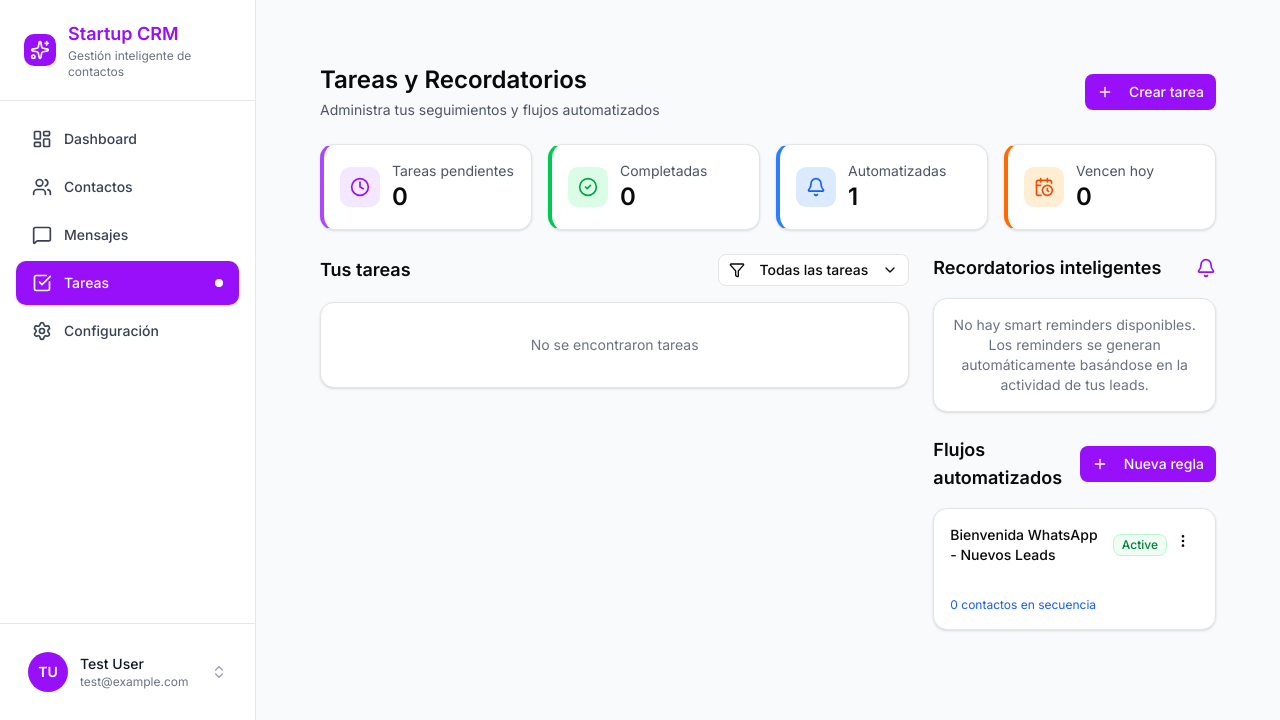
it: Integración WhatsApp + Flujos Automatizados › Flujo completo: Lead → Automatización → Mensaje WhatsApp › debe enviar mensaje automático cuando se crea un lead asignado a un flujo
The image size is (1280, 720).
Click the button with test id "workflow-menu-1" at (1183, 541), box [1167,525,1199,557]
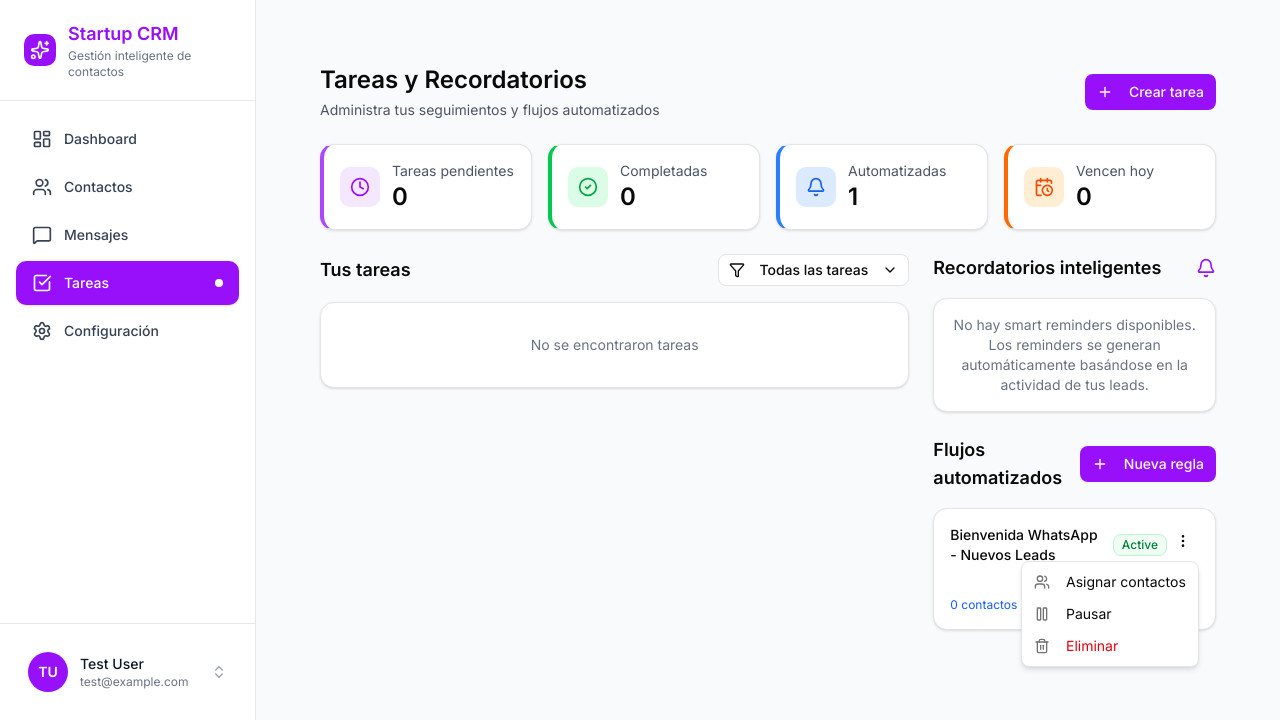
Click the menu item with test id "workflow-assign-contacts-1" at (1110, 582), box [1034,573,1186,590]
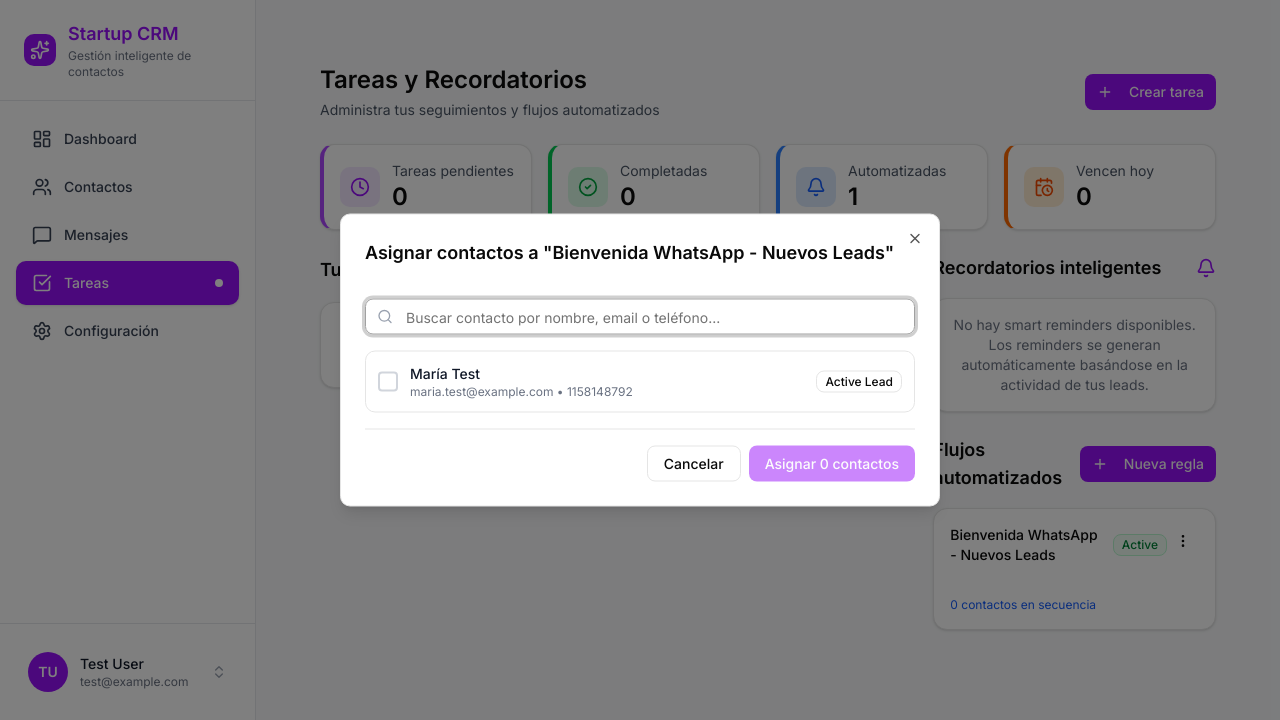
Expected: the text "María Test" is shown
Click the text "María Test" at (445, 374), box [410,365,480,382]
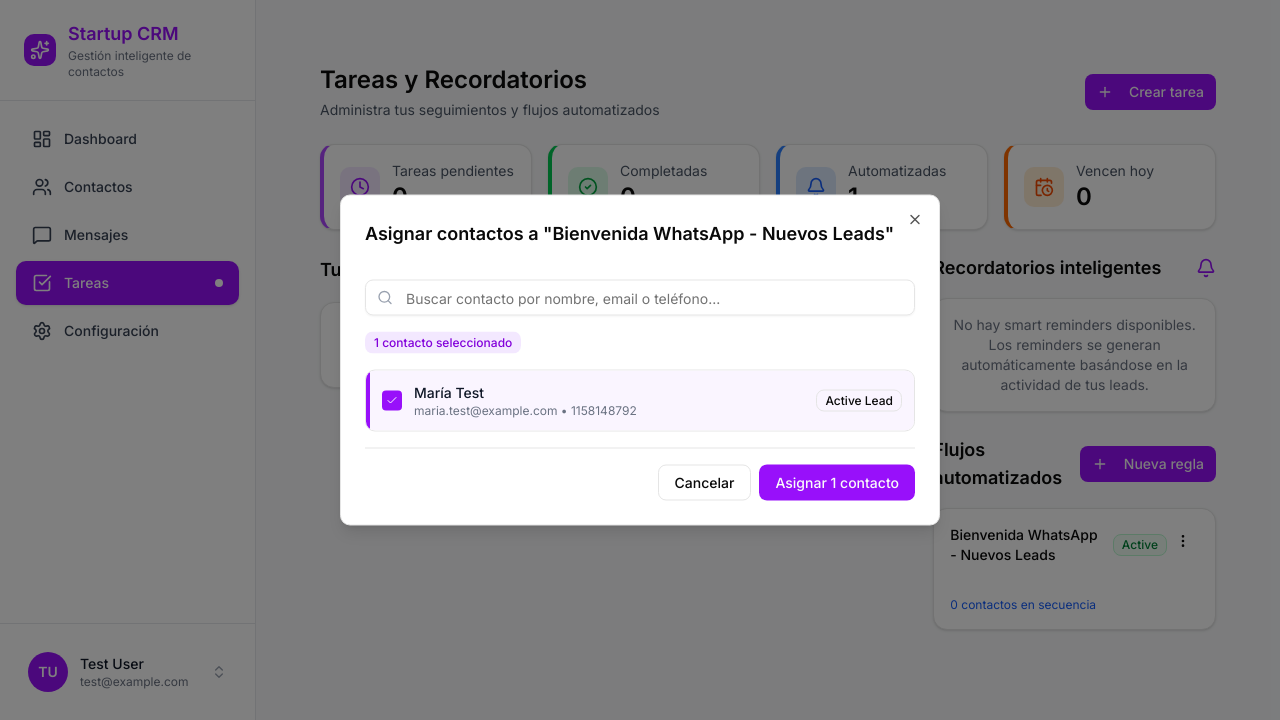
Click the button "Asignar 1 contacto" at (837, 483), box [759,465,915,501]
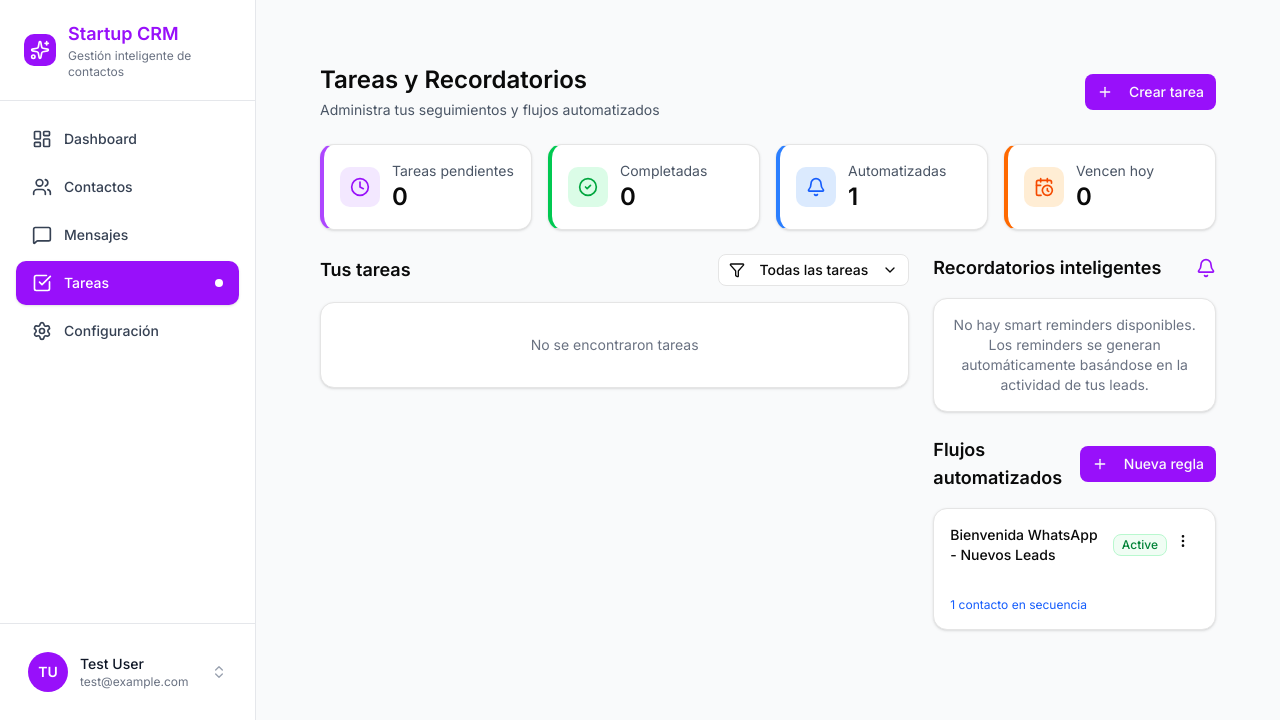
Open "/messages"
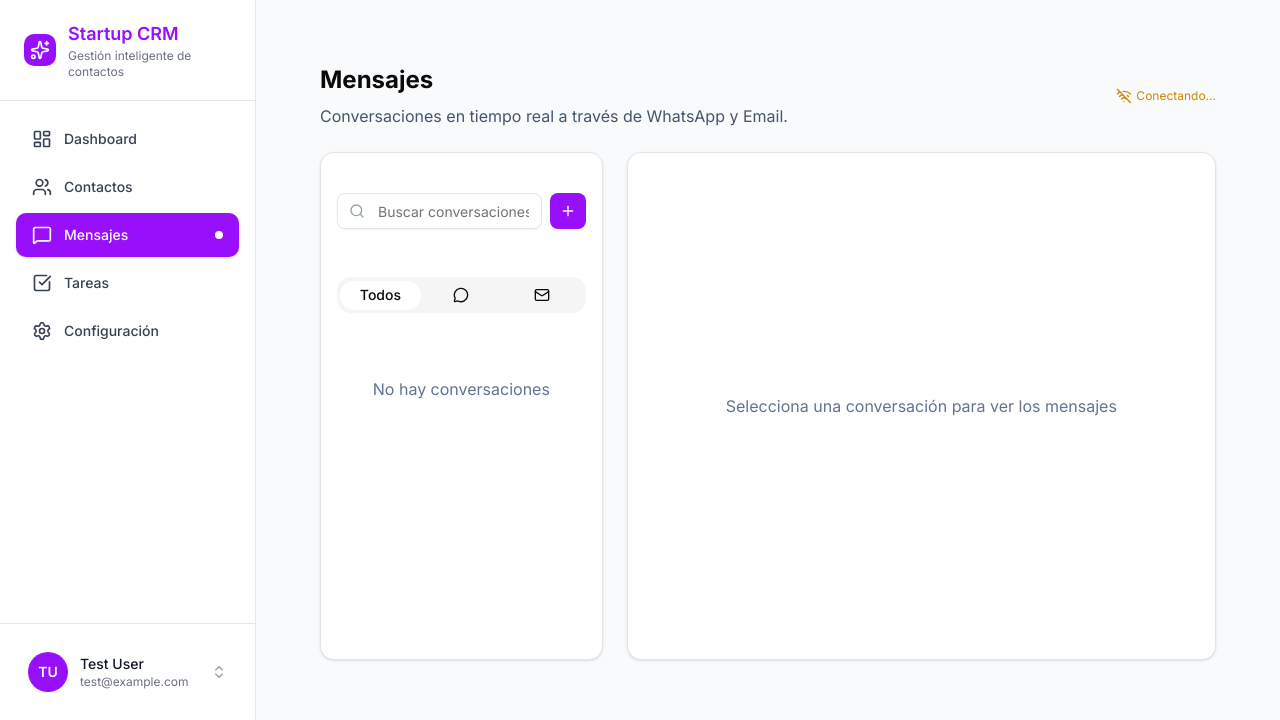
Open "/tasks"
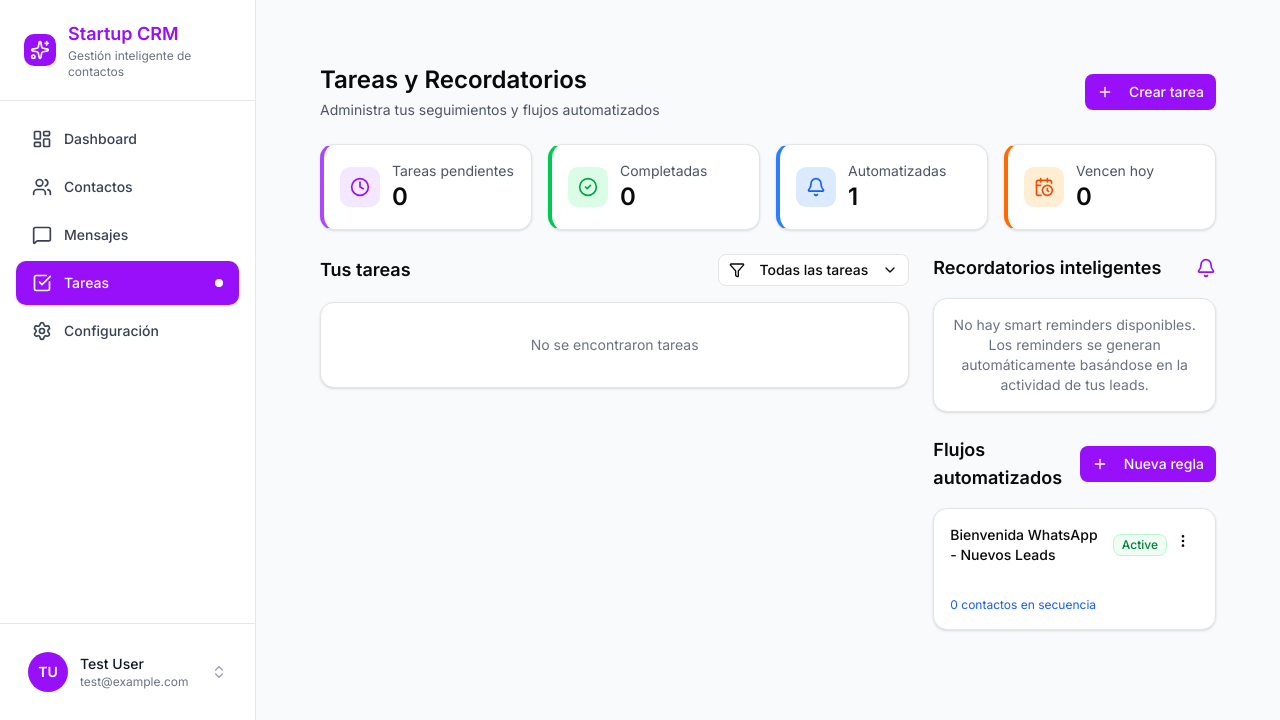
Expected: the text with test id "workflow-card-1" reads "Active", [1122,537,1158,552]
